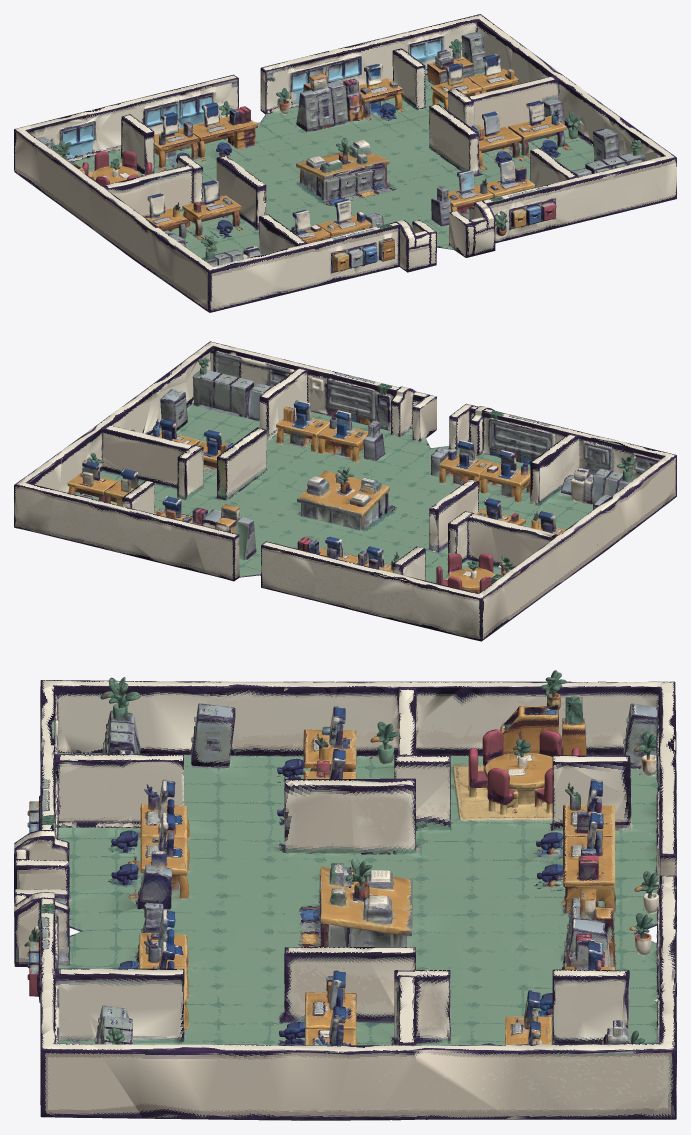
File: scene-office.glb
3 views of the same model, one above another, from view 1: azimuth 30°, elevation 25°; view 2: azimuth 150°, elevation 25°; view 3: azimuth 270°, elevation 25° (orthographic). The views are drawn at different scales.
Parts seen in each view (by area): view 1: Mesh_0; view 2: Mesh_0; view 3: Mesh_0.
Boxes of the visible parts, x1,y1,x2,y2 form: Mesh_0: [14, 14, 676, 312]; Mesh_0: [14, 341, 676, 641]; Mesh_0: [14, 670, 676, 1120].
Bounding box in the file's own units: 1.9 × 0.2216 × 1.44.
Materials: 1 (1 with a texture image).
